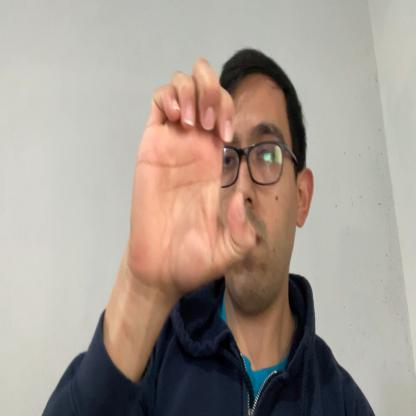E: (132, 57, 258, 298)
